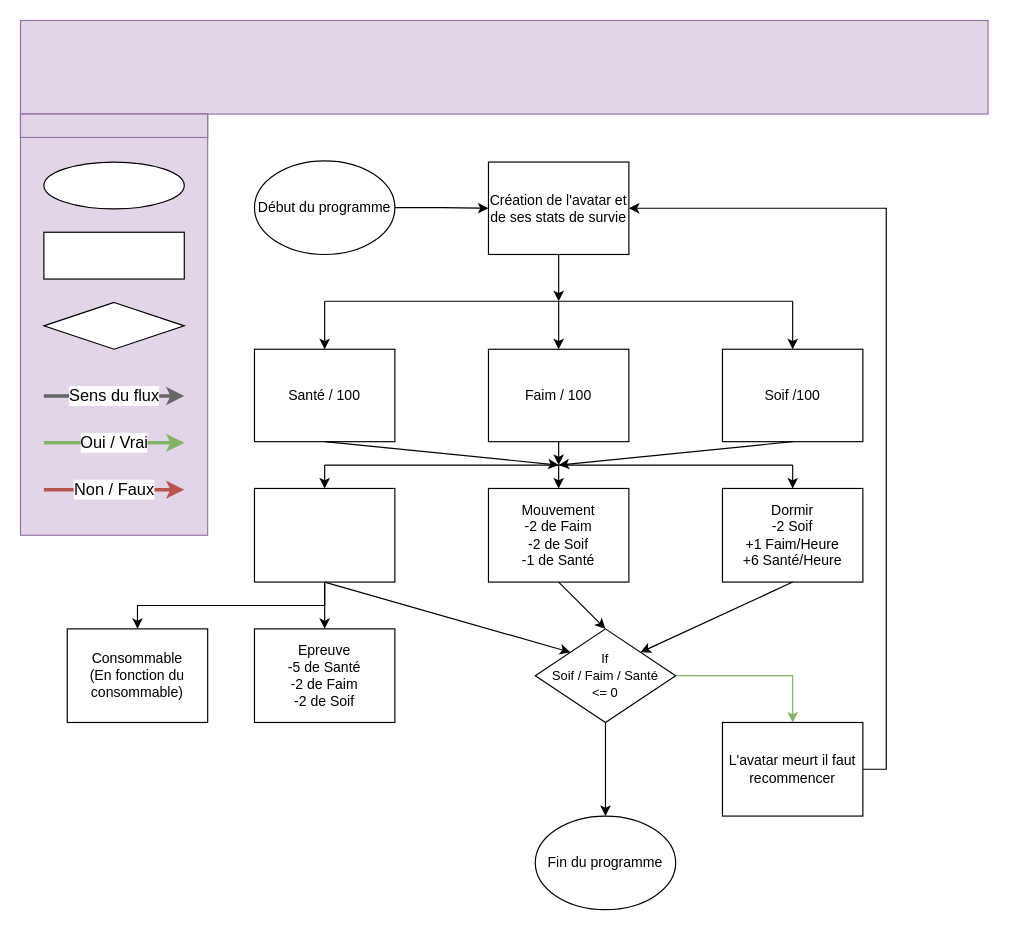
Some shapes in this 1009 by 930 pixel diagram are drawn without their labels. The shapes that lost their labels are listed below. From the top down, each one's box as (x1, y1, x2, y2) in pixels, then its label:
(19, 19, 988, 114): Projet Research and Survive 01 Stats
(19, 113, 208, 137): Légende
(43, 161, 184, 209): Début / Fin
(43, 231, 184, 279): Étape / Fonction
(43, 301, 184, 349): Choix
(253, 487, 395, 582): Actions
